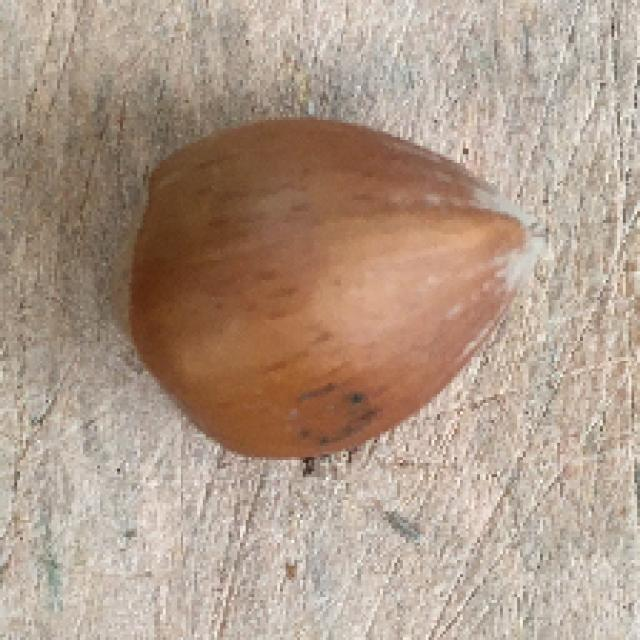damagedHazelnut: (117, 97, 549, 468)
